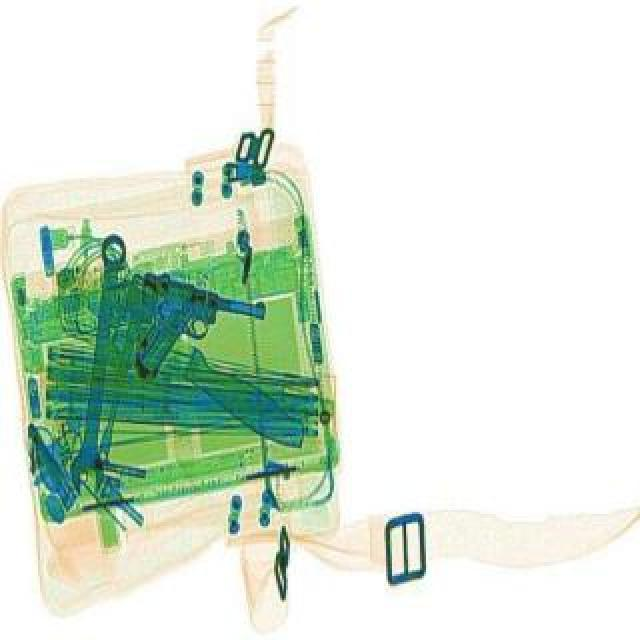gun: (116, 272, 272, 404)
knife: (66, 272, 312, 460)
scissors: (68, 238, 128, 498)
